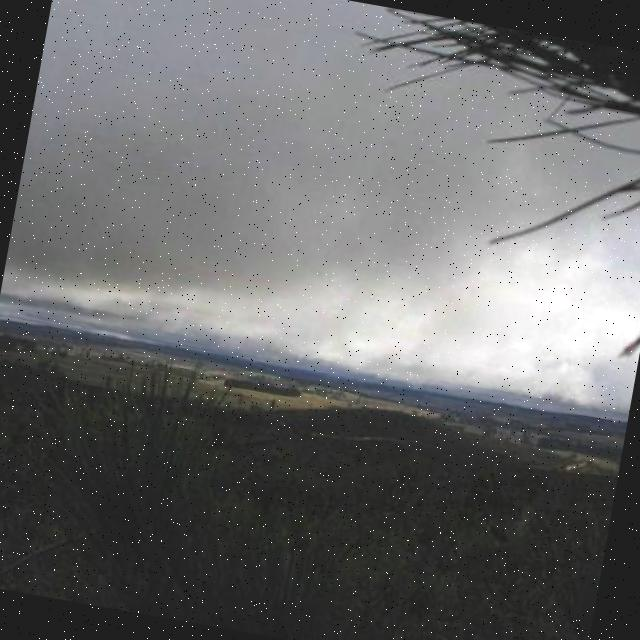St: (3, 1, 480, 353)
